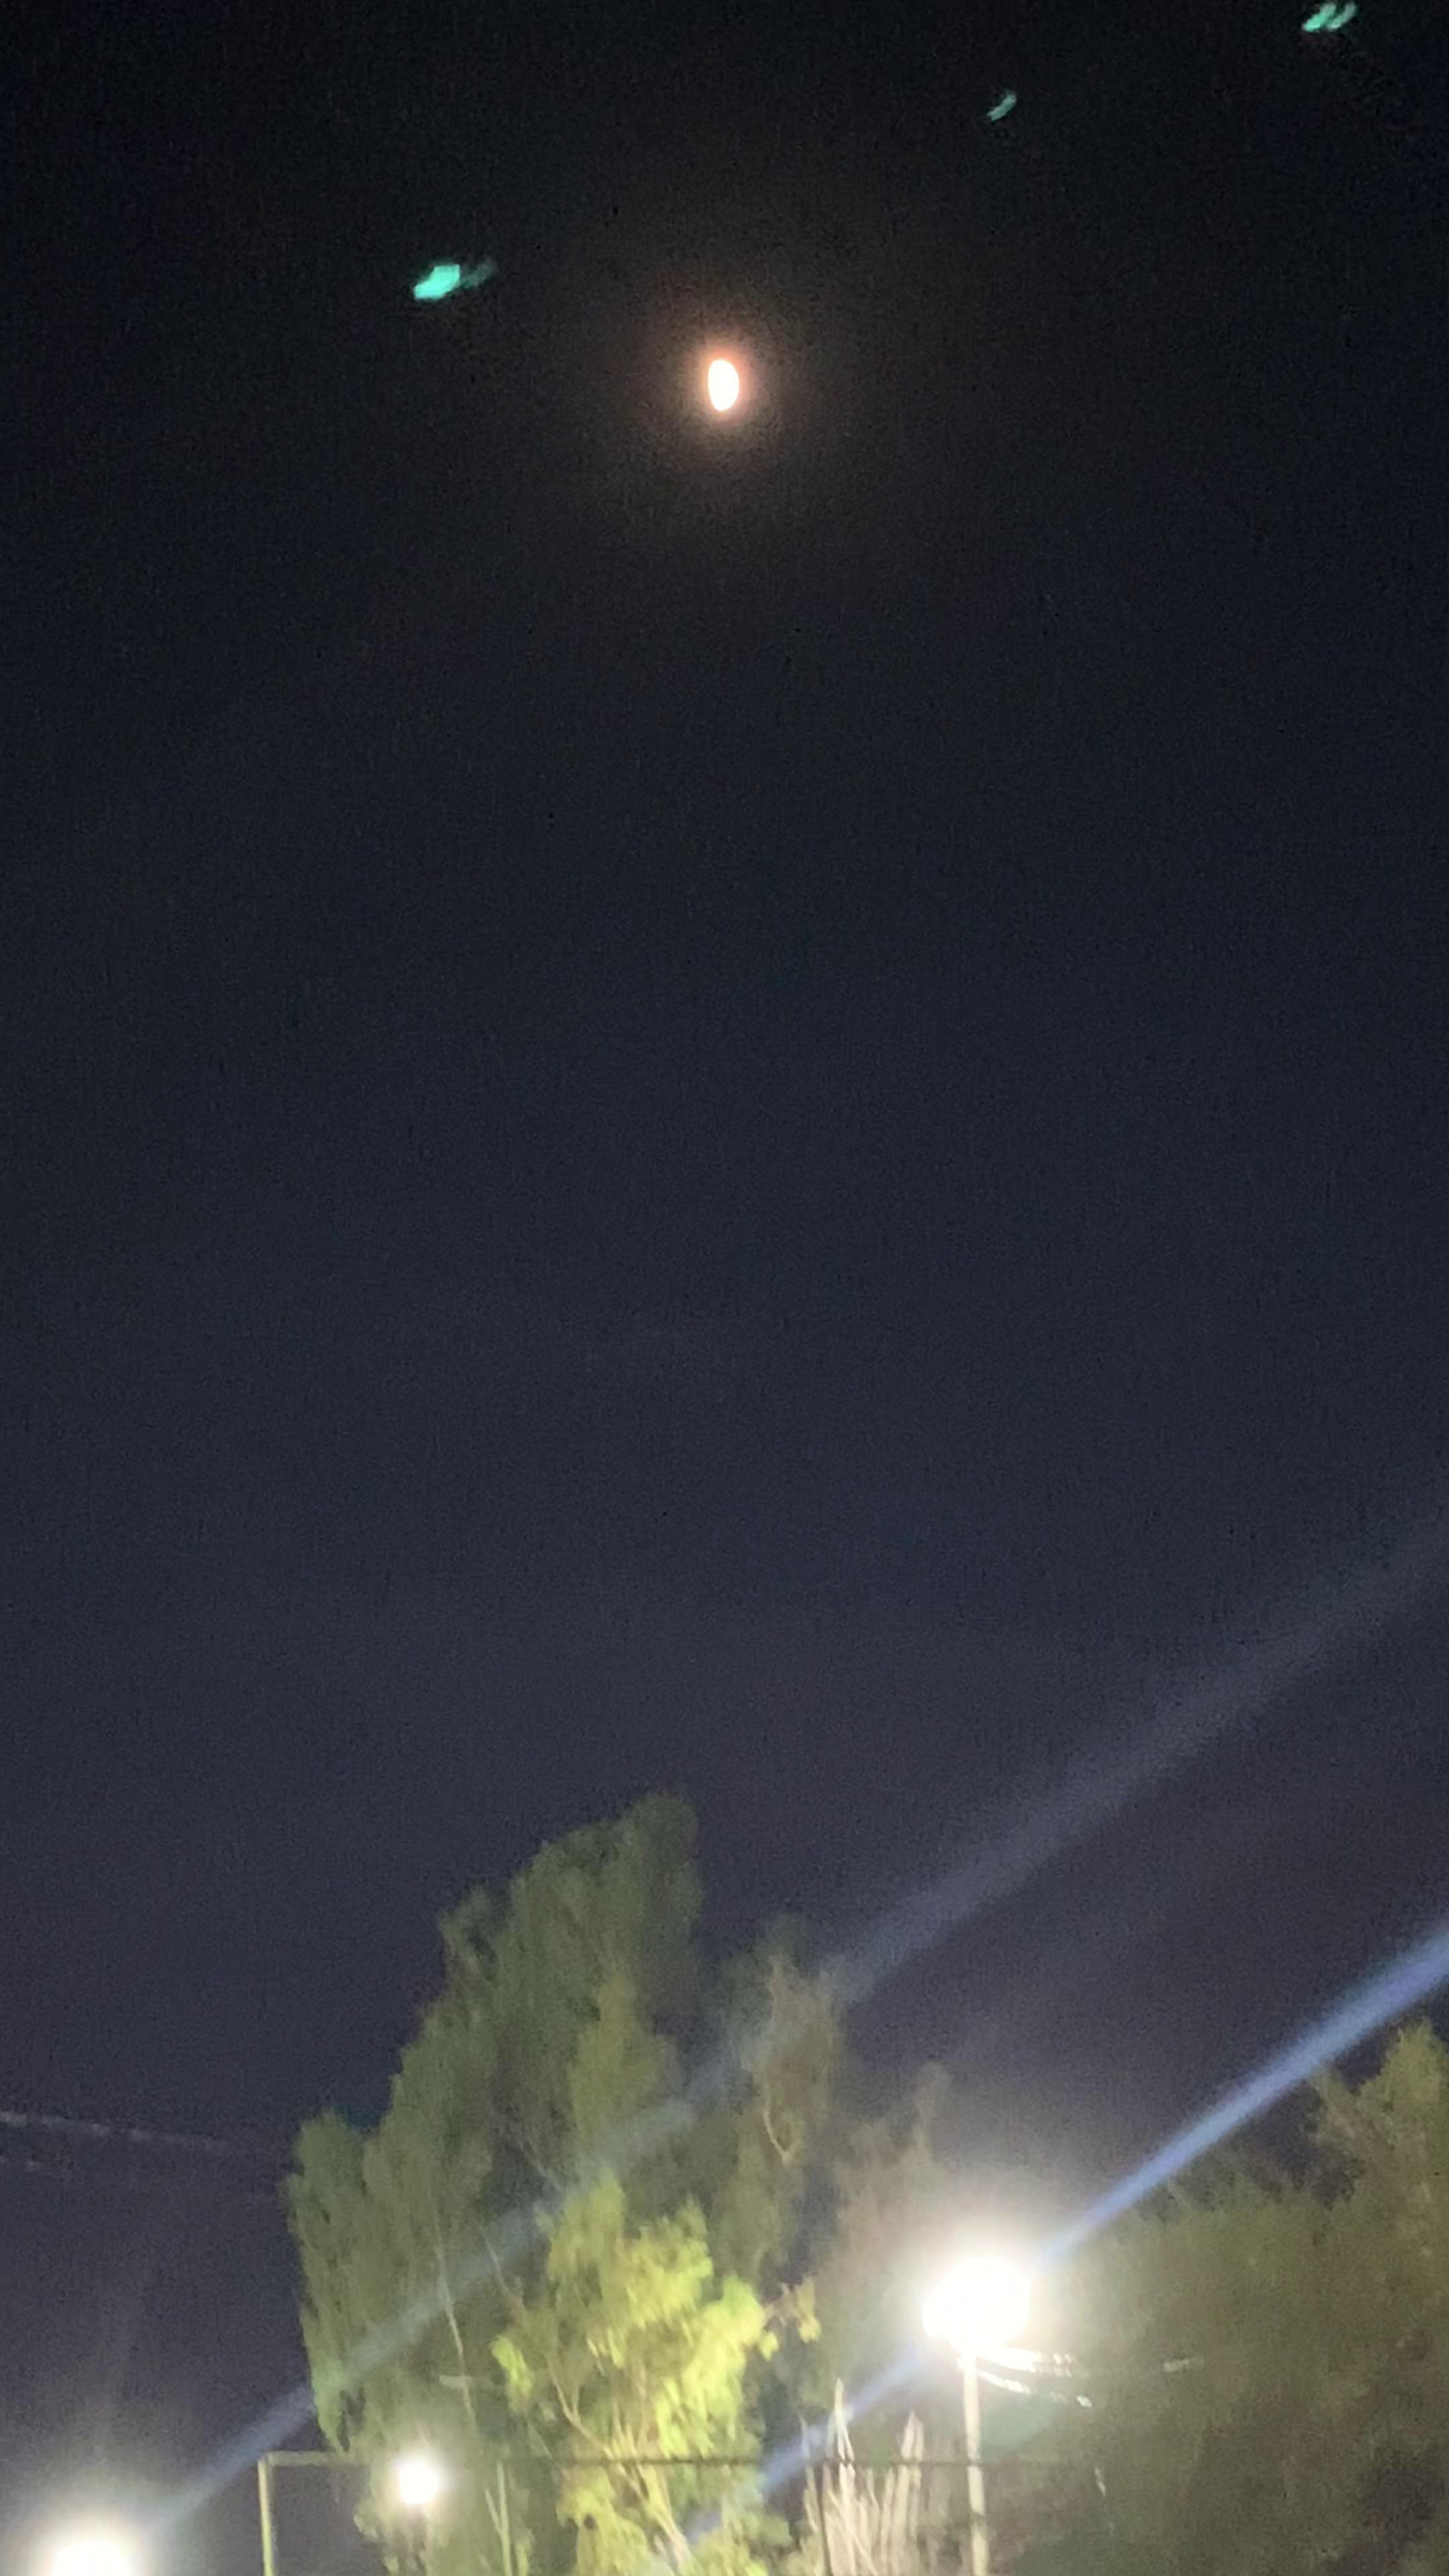moon: (658, 318, 819, 465)
